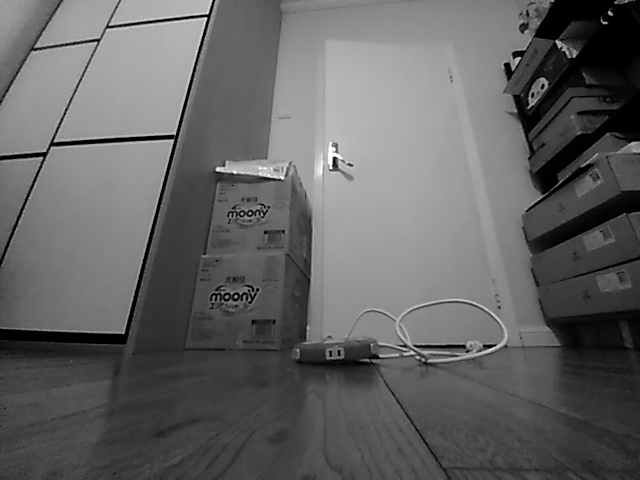wire: (342, 295, 509, 364)
